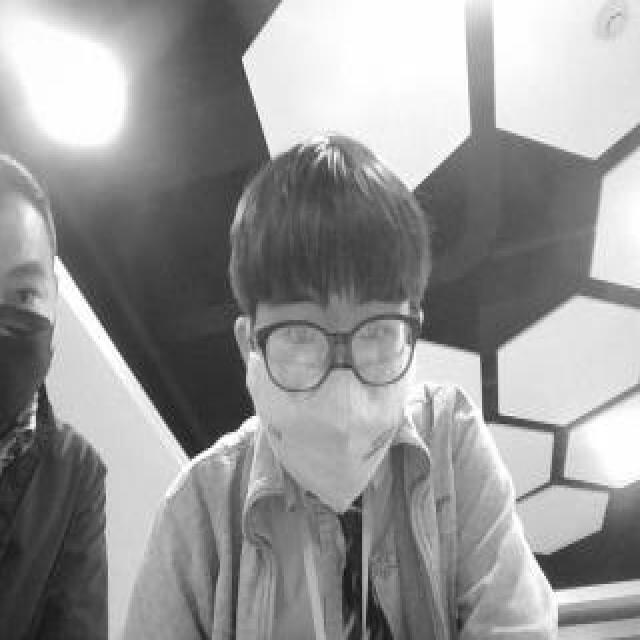Focused: (259, 260, 419, 492)
